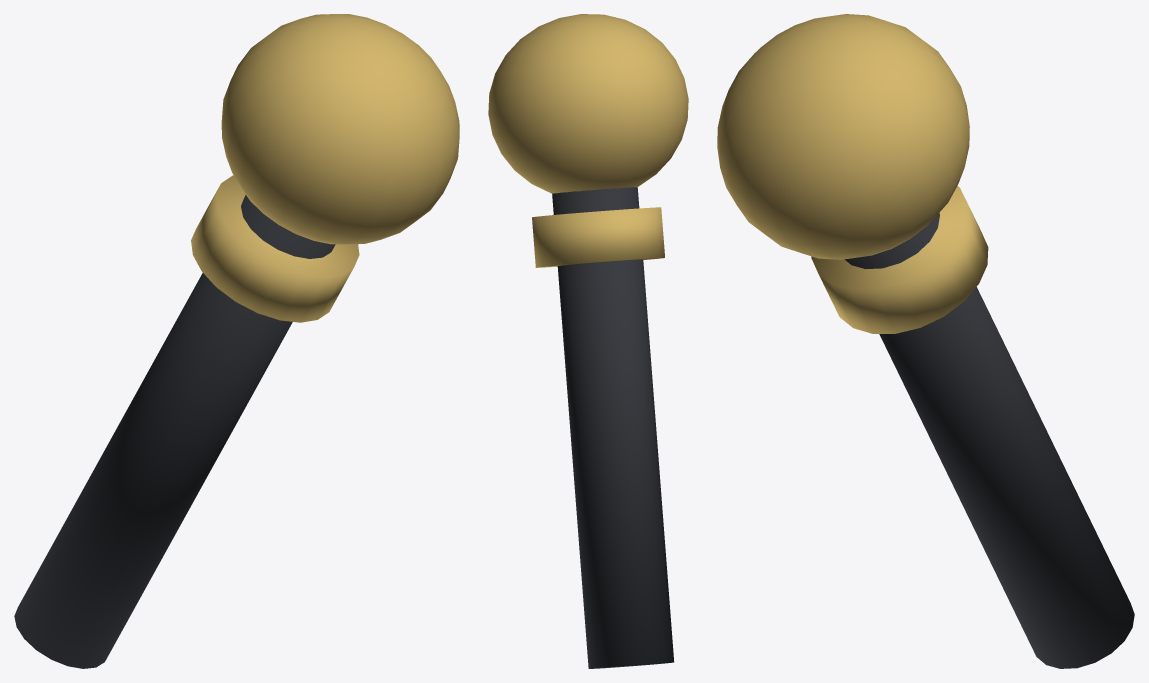
Rendered from lift.glb.
3 renders of one model, left to right at view 1: azimuth 30°, elevation 25°; view 2: azimuth 150°, elevation 25°; view 3: azimuth 270°, elevation 25°, orthographic. The views are drawn at different scales.
Visible parts, largest first — view 1: fmm_lift_knob, fmm_lift_shaft, fmm_lift_collar; view 2: fmm_lift_shaft, fmm_lift_knob, fmm_lift_collar; view 3: fmm_lift_knob, fmm_lift_shaft, fmm_lift_collar.
Part boxes in pixels (x1=…): fmm_lift_knob: x1=221, y1=14, x2=459, y2=244; fmm_lift_shaft: x1=14, y1=195, x2=335, y2=668; fmm_lift_collar: x1=191, y1=175, x2=359, y2=322; fmm_lift_shaft: x1=552, y1=187, x2=674, y2=668; fmm_lift_knob: x1=488, y1=14, x2=688, y2=193; fmm_lift_collar: x1=532, y1=207, x2=664, y2=267; fmm_lift_knob: x1=717, y1=14, x2=969, y2=259; fmm_lift_shaft: x1=845, y1=213, x2=1134, y2=668; fmm_lift_collar: x1=811, y1=186, x2=988, y2=333.
Size of the model in its own units: 0.0593 by 0.1221 by 0.0652.
